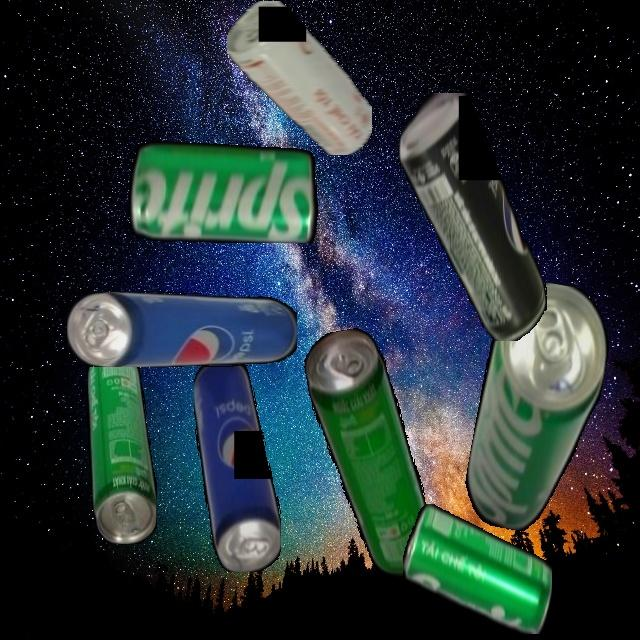debris: (459, 275, 618, 540), (397, 92, 547, 341), (300, 322, 438, 586), (129, 108, 318, 243), (226, 1, 372, 155), (402, 503, 552, 634), (193, 361, 281, 572), (67, 290, 297, 367), (86, 349, 157, 544)
